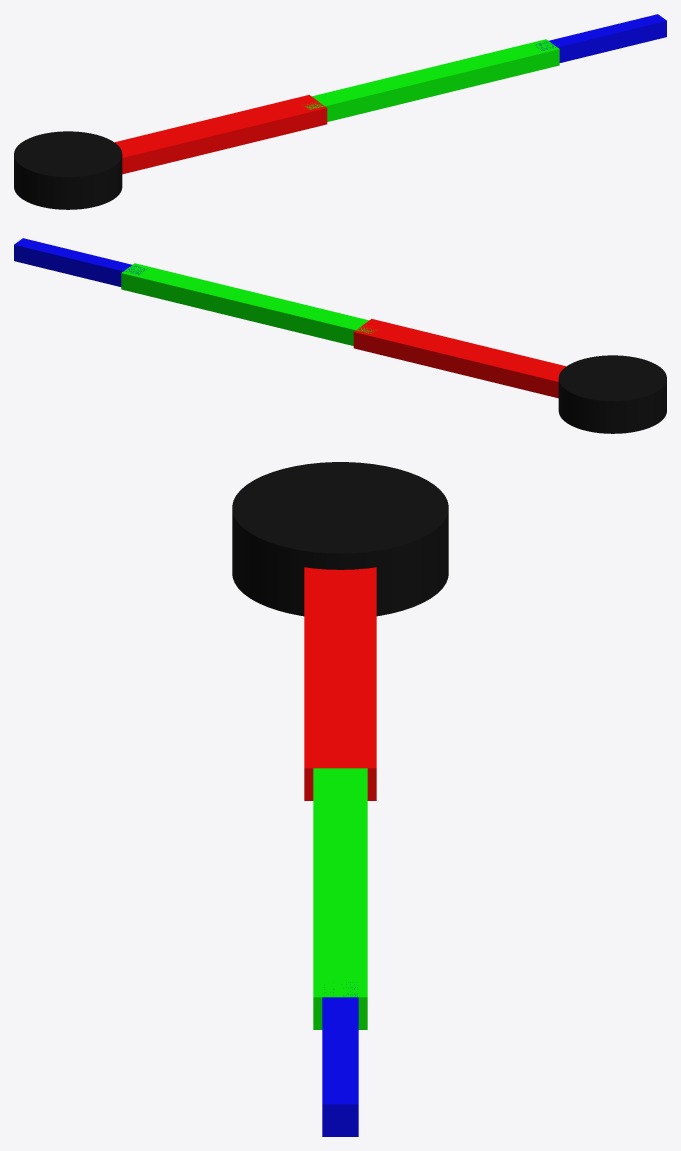
File: sample3dof.dae
3 views of the same model, one above another, from view 1: azimuth 30°, elevation 25°; view 2: azimuth 150°, elevation 25°; view 3: azimuth 270°, elevation 25° (orthographic). The views are drawn at different scales.
Parts seen in each view (by area): view 1: Base, Arm1, Arm0, Arm2; view 2: Base, Arm1, Arm0, Arm2; view 3: Base, Arm0, Arm1, Arm2.
Boxes of the visible parts, box(x1,y1,x2,y2) form: Base: box(14, 131, 122, 209); Arm1: box(305, 39, 559, 121); Arm0: box(115, 95, 327, 174); Arm2: box(535, 14, 666, 62); Base: box(558, 355, 666, 433); Arm1: box(121, 263, 376, 345); Arm0: box(353, 319, 565, 398); Arm2: box(14, 238, 146, 286); Base: box(232, 462, 448, 616); Arm0: box(304, 567, 376, 800); Arm1: box(313, 768, 367, 1029); Arm2: box(322, 982, 358, 1136).
Size of the model in its own units: 0.4099 by 0.06 by 0.02.
